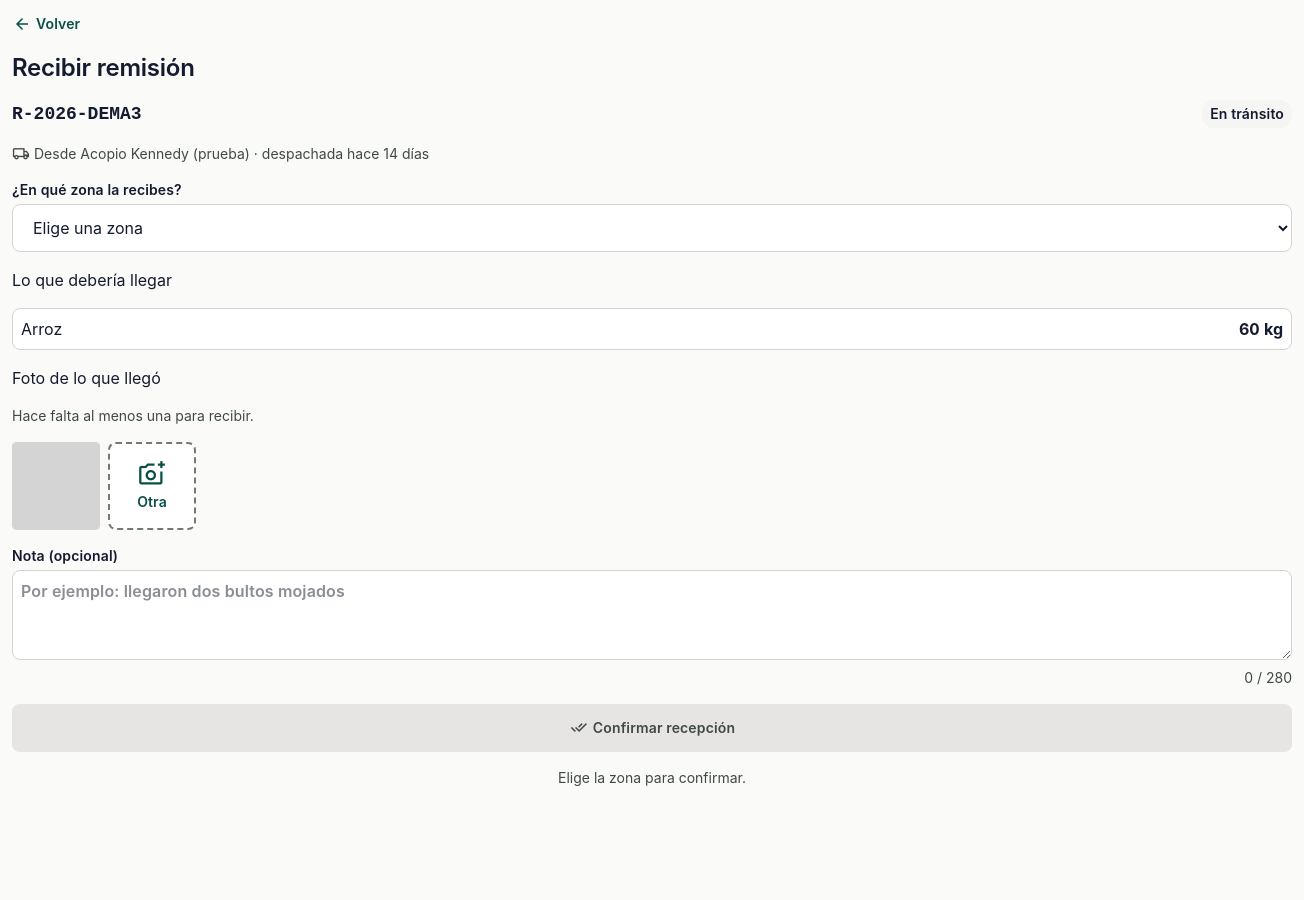
un despacho general pide la zona antes de confirmar
Expected: the button "Confirmar recepción" is disabled, [12,704,1292,752]
Expected: the text "Elige la zona para confirmar." is shown, [558,769,746,786]
Select "Barrio San Agustín (prueba)" in the dropdown labelled "¿En qué zona la recibes?": (652, 228) [12,204,1292,252]
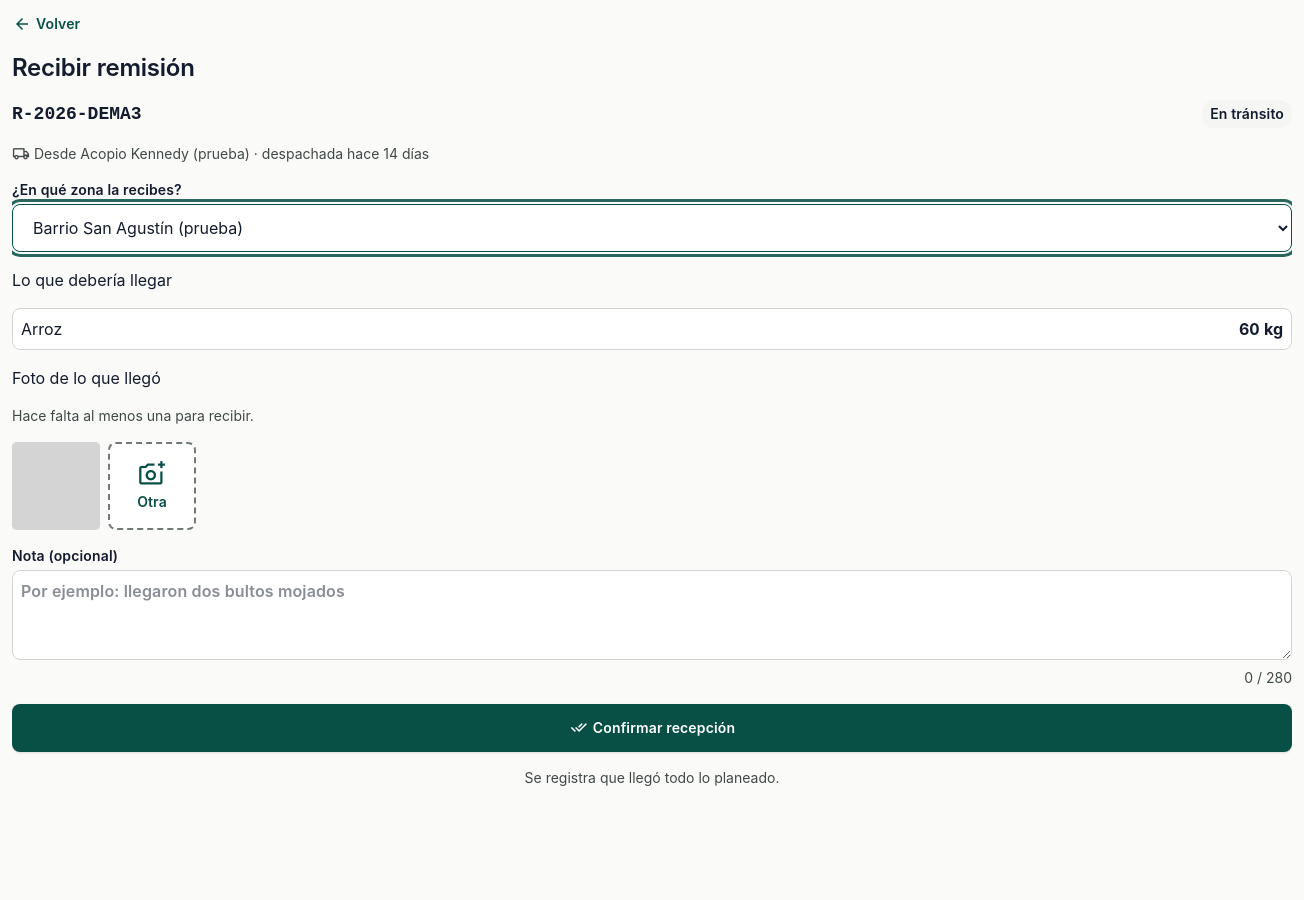
Click the button "Confirmar recepción": (652, 728) [12,704,1292,752]
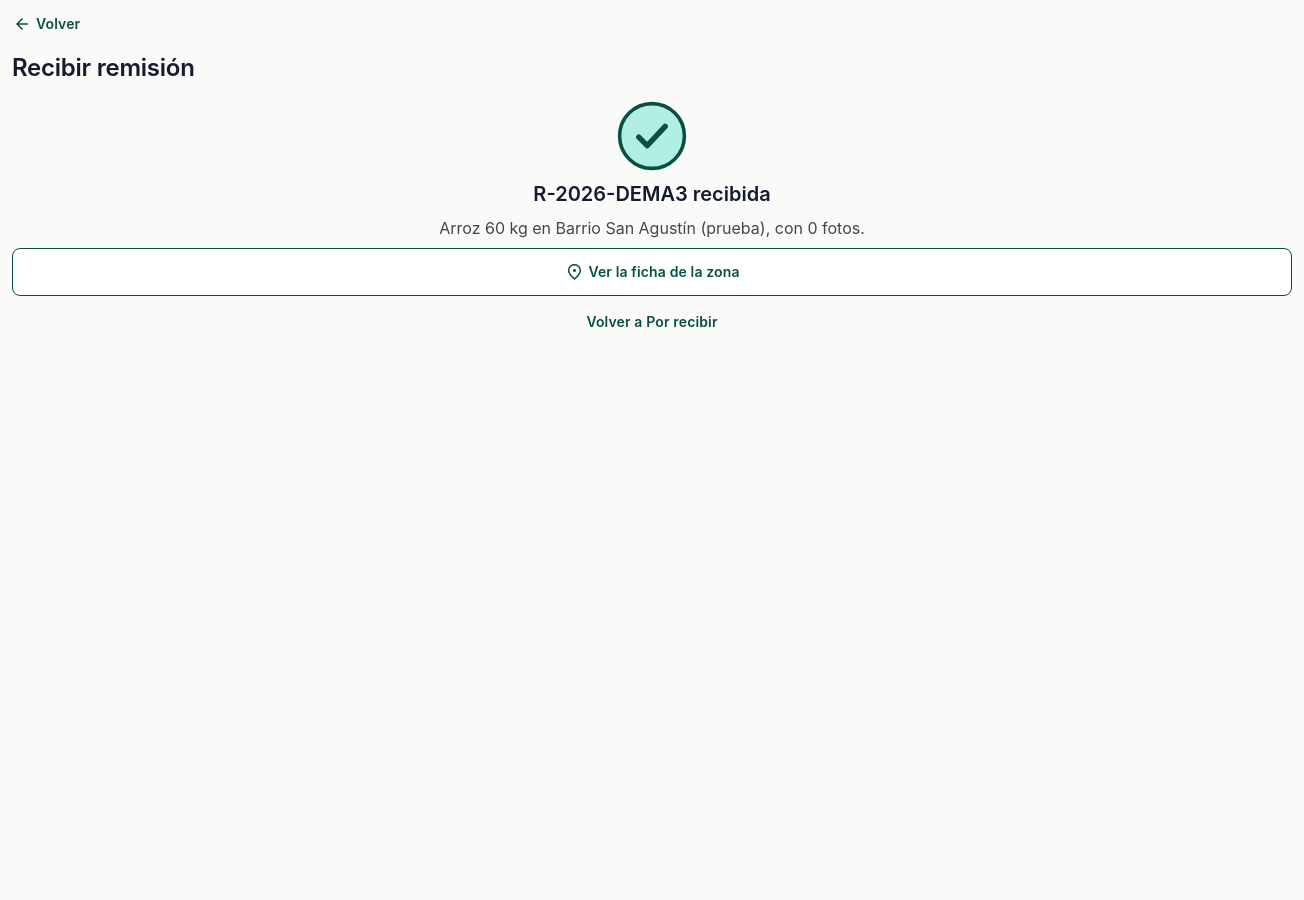
Now the heading "R-2026-DEMA3 recibida" is shown, box [533,180,771,208]
